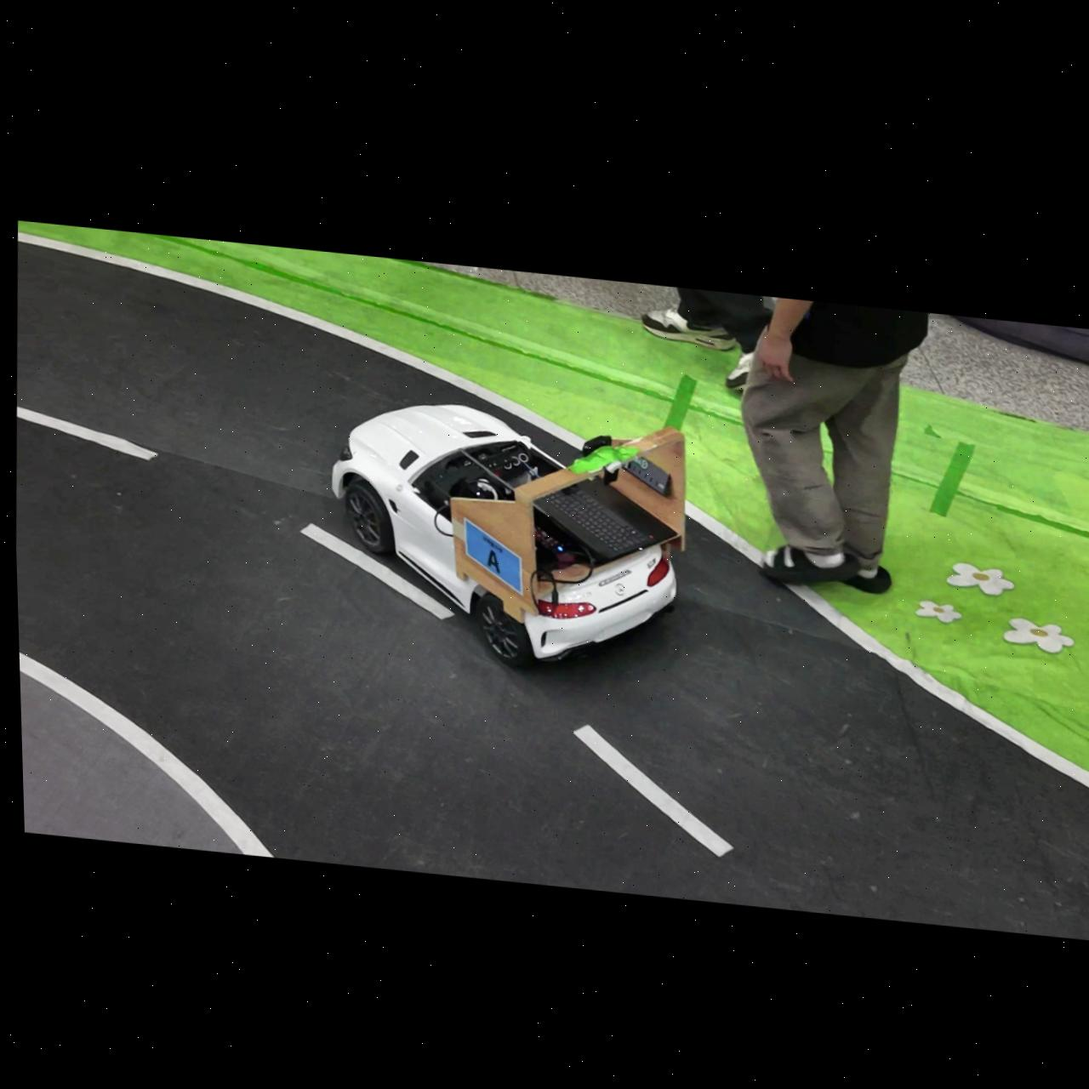broken_line: (571, 724, 734, 857), (298, 523, 455, 620), (16, 405, 158, 461)
